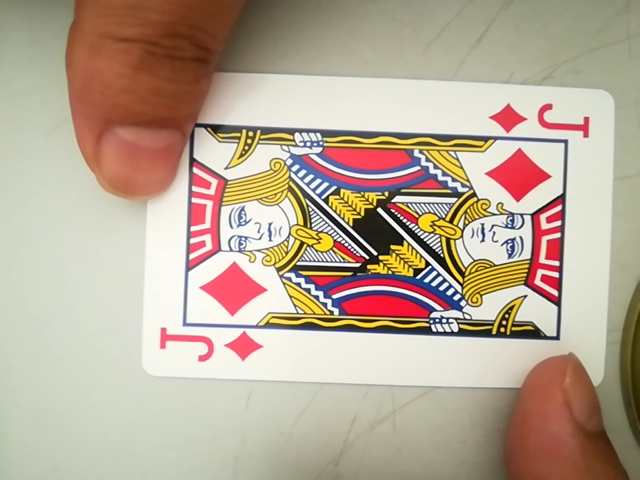fk j: (150, 324, 268, 370), (492, 99, 594, 139)
